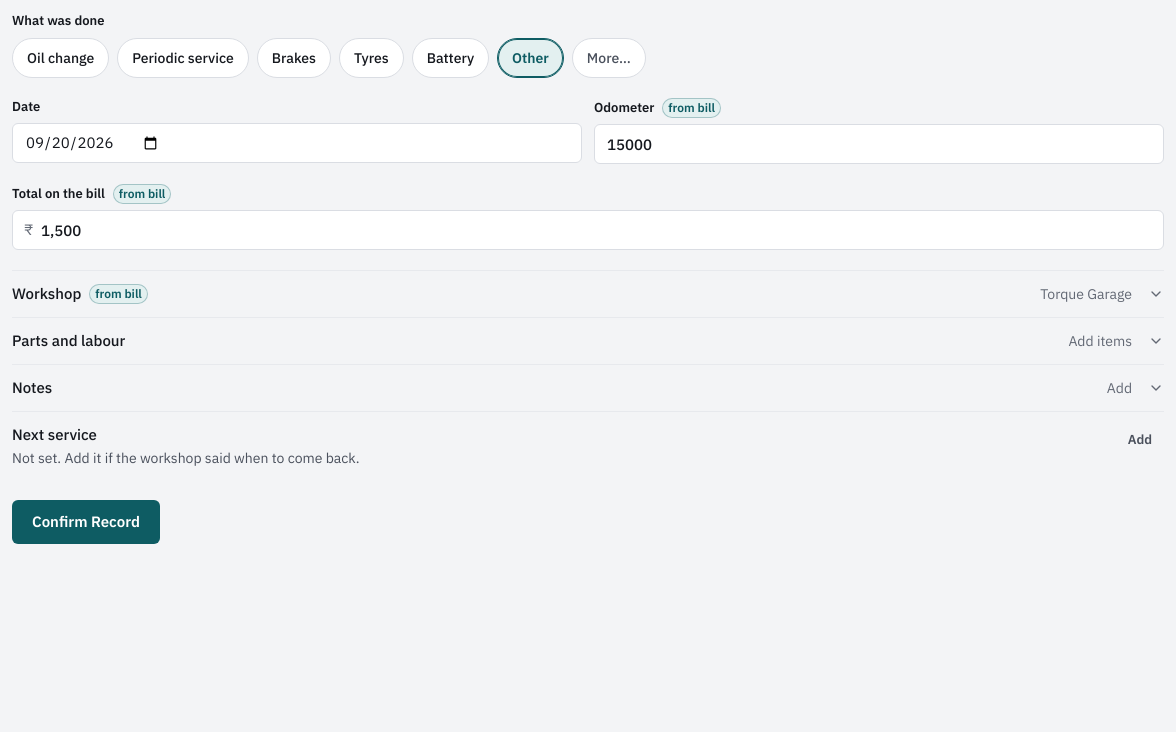
Scenario: MaintenanceForm › marks each value read from the bill until it is edited
Check: the text "from bill" is shown 3 times, box [662,98,721,118]; [113,184,171,204]; [89,284,148,304]
Check: the button "Workshop from bill Torque Garage" is shown, box [12,271,1164,317]
Replace the text in the field labelled "Total on the bill" with "2400" at {"x": 588, "y": 230}, box [12,210,1164,250]
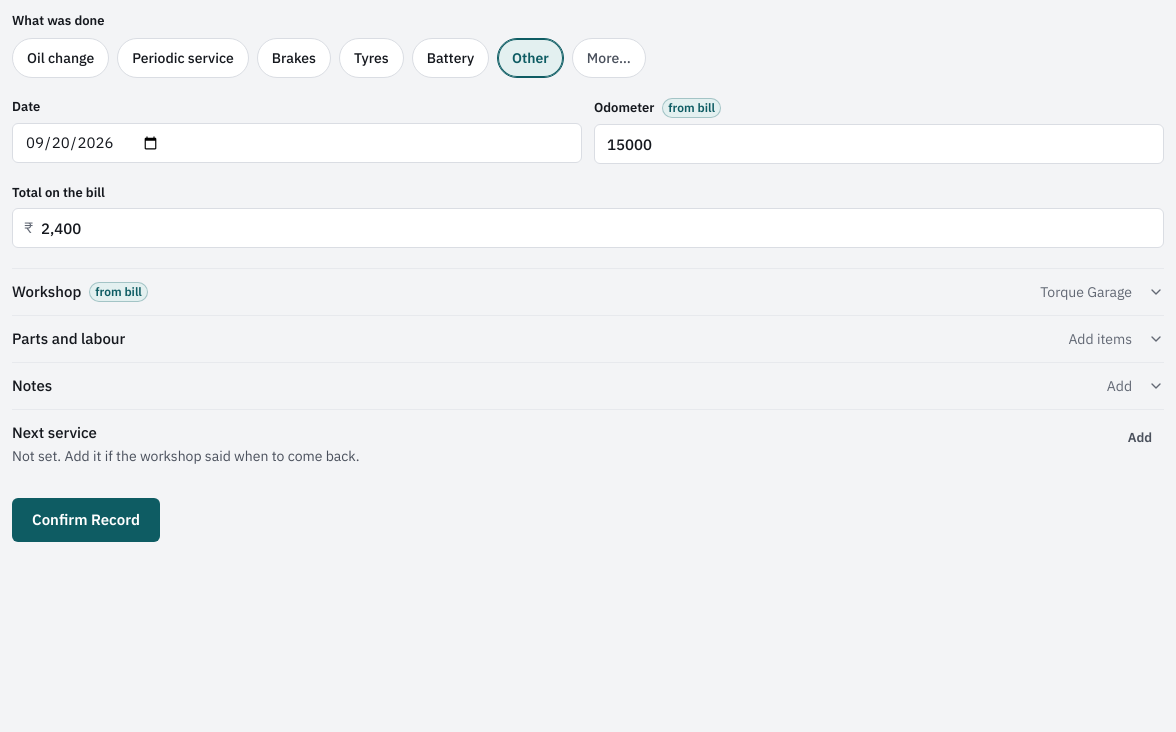
Check: the text "from bill" is shown 2 times, box [662,98,721,118]; [89,282,148,302]
